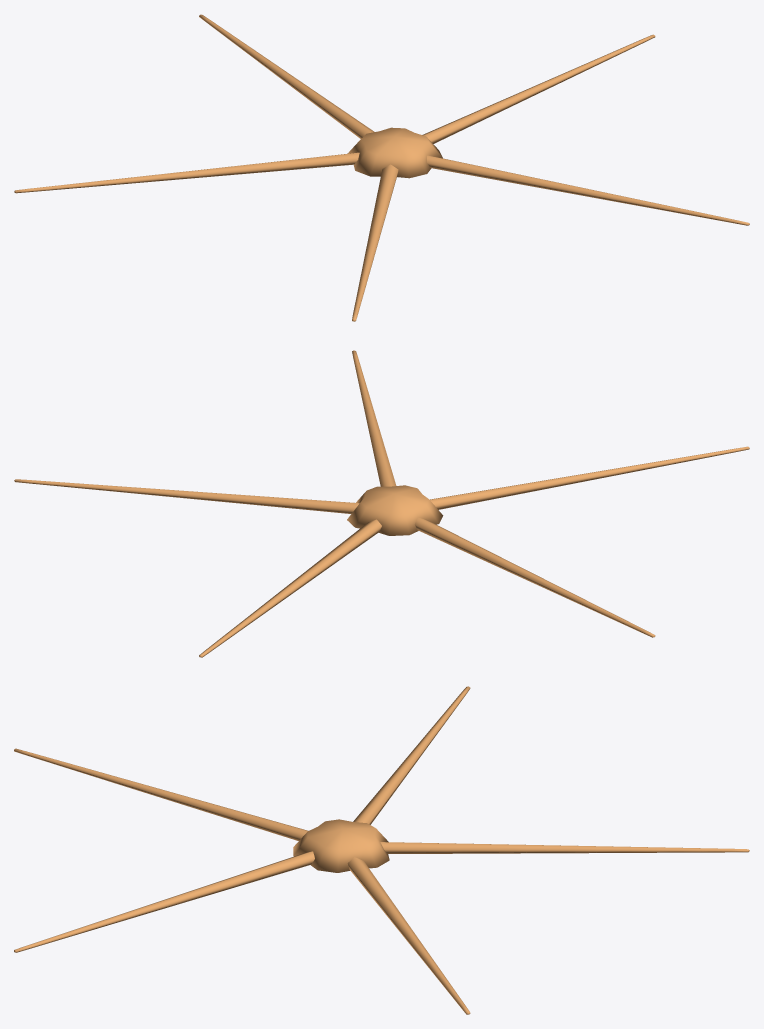
The model's file is starfish_brittle_lo.glb.
3 renders of one model, top to bottom at view 1: azimuth 30°, elevation 25°; view 2: azimuth 150°, elevation 25°; view 3: azimuth 270°, elevation 25°, orthographic. The views are drawn at different scales.
Parts seen in each view (by area): view 1: starfish_brittle_lo; view 2: starfish_brittle_lo; view 3: starfish_brittle_lo.
Boxes of the visible parts, left/top/right/bottom form: starfish_brittle_lo: left=14, top=14, right=749, bottom=321; starfish_brittle_lo: left=14, top=350, right=749, bottom=657; starfish_brittle_lo: left=14, top=686, right=749, bottom=1014.
Bounding box in the file's own units: 0.1902 × 0.0062 × 0.1809.
